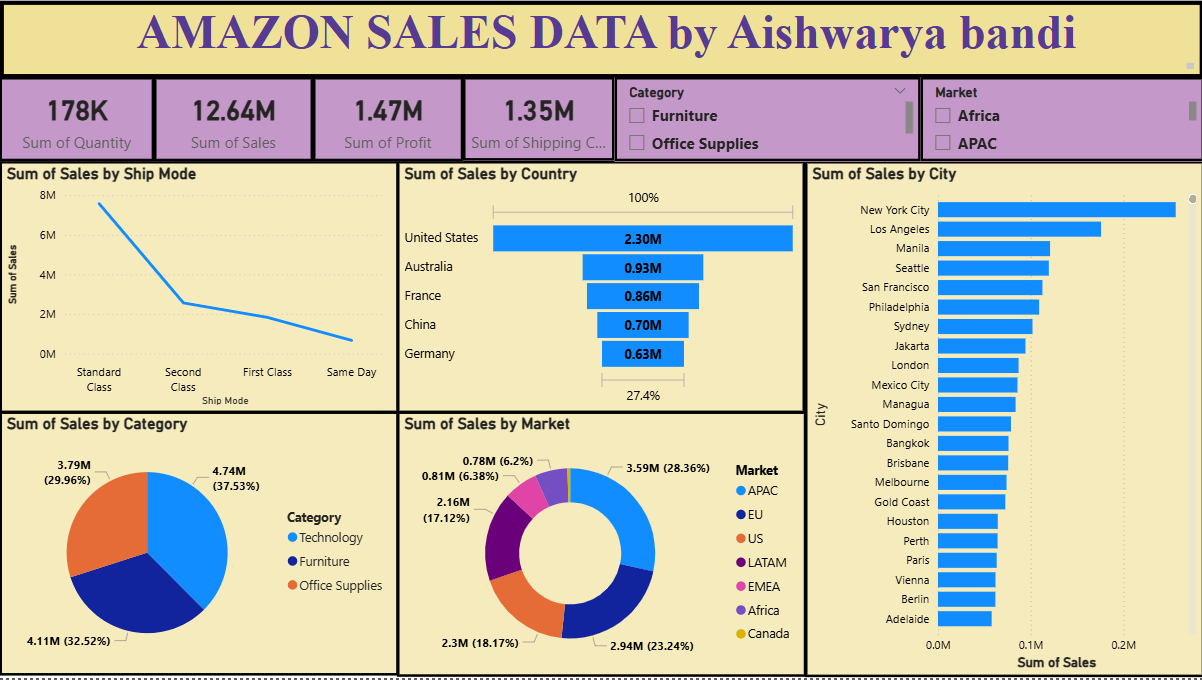

Layout of this report page (visuals, bound fields, positions):
{"tool":"powerbi","page":{"name":"Page 1","canvas":[1280,720],"ordinal":0},"visuals":[{"type":"pieChart","fields":{"Category":["Orders.Category"],"Y":["Sum(Orders.Sales)"]},"box":[1.6,437.4,423.1,279.9],"z":0},{"type":"donutChart","fields":{"Category":["Orders.Market"],"Y":["Sum(Orders.Sales)"]},"box":[423.1,437.4,434.2,281.5],"z":1000},{"type":"lineChart","fields":{"Category":["Orders.Ship Mode"],"Y":["Sum(Orders.Sales)"]},"box":[1.6,171.8,423.1,267.2],"z":2000},{"type":"clusteredBarChart","fields":{"Category":["Orders.City"],"Y":["Sum(Orders.Sales)"]},"box":[855.7,171.8,423.1,547.2],"z":3000},{"type":"funnel","fields":{"Category":["Orders.Country"],"Y":["Sum(Orders.Sales)"]},"box":[423.1,171.8,432.6,267.2],"z":4000},{"type":"textbox","title":"AMAZON SALES DATA by Aishwarya bandi","box":[1.6,1.6,1277.3,82.7],"z":5000},{"type":"card","fields":{"Values":["Sum(Orders.Quantity)"]},"box":[1.6,82.7,163.8,89.1],"z":6000},{"type":"card","fields":{"Values":["Sum(Orders.Sales)"]},"box":[166,82.7,168.6,89.1],"z":7000},{"type":"card","fields":{"Values":["Sum(Orders.Profit)"]},"box":[334,82.7,159.1,89.1],"z":8000},{"type":"card","fields":{"Values":["Sum(Orders.Shipping Cost)"]},"box":[493,83.1,160.6,88.7],"z":9000},{"type":"slicer","fields":{"Values":["Orders.Category"]},"box":[653.7,82.7,324.5,89.1],"z":10000},{"type":"slicer","fields":{"Values":["Orders.Market"]},"box":[978.2,82.7,300.6,89.1],"z":11000}]}

Visuals, with their boxes in screenshot pixels (x1, y1, x2, y2), scaled from the page's 1280x720 canvas onto the 1202x680 screenshot:
pieChart - Orders.Category x Sum(Orders.Sales): locate(2, 413, 399, 677)
donutChart - Orders.Market x Sum(Orders.Sales): locate(397, 413, 805, 679)
lineChart - Orders.Ship Mode x Sum(Orders.Sales): locate(2, 162, 399, 415)
clusteredBarChart - Orders.City x Sum(Orders.Sales): locate(804, 162, 1201, 679)
funnel - Orders.Country x Sum(Orders.Sales): locate(397, 162, 804, 415)
"AMAZON SALES DATA by Aishwarya bandi" textbox: locate(2, 2, 1201, 80)
card - Sum(Orders.Quantity): locate(2, 78, 155, 162)
card - Sum(Orders.Sales): locate(156, 78, 314, 162)
card - Sum(Orders.Profit): locate(314, 78, 463, 162)
card - Sum(Orders.Shipping Cost): locate(463, 78, 614, 162)
slicer - Orders.Category: locate(614, 78, 919, 162)
slicer - Orders.Market: locate(919, 78, 1201, 162)
